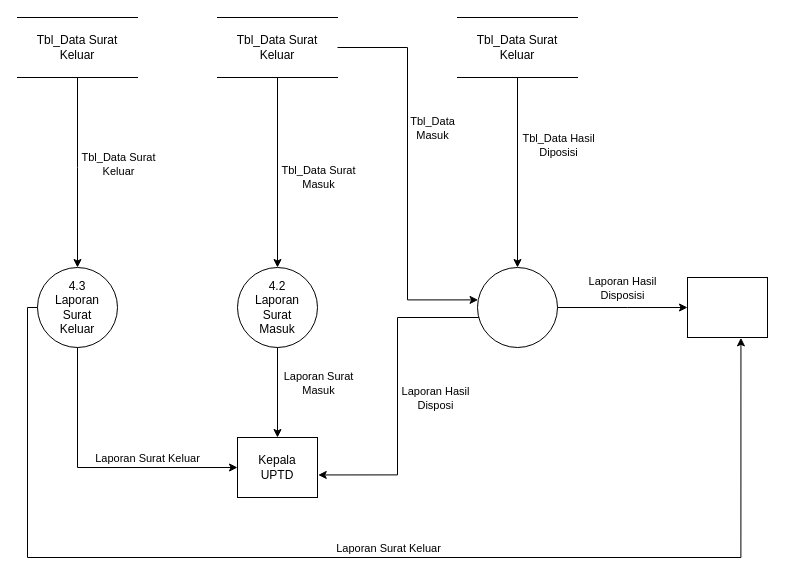
This 785x583 diagram has some shape labels left out. The centre of each missing label's shape, as x and y in pixels:
"4.1 Laporan Hasil Disposisi" belongs at (x=517, y=307).
"Administrasi Surat Tata Usaha" belongs at (x=727, y=307).
